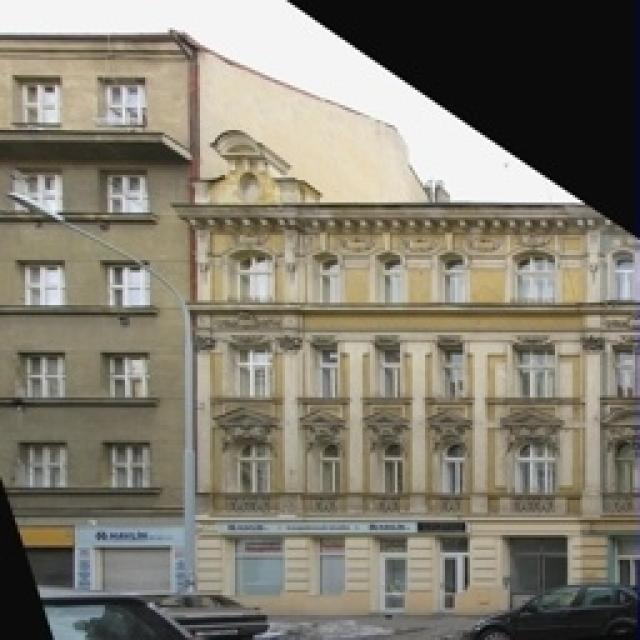building: (197, 185, 640, 640), (0, 25, 205, 623)
